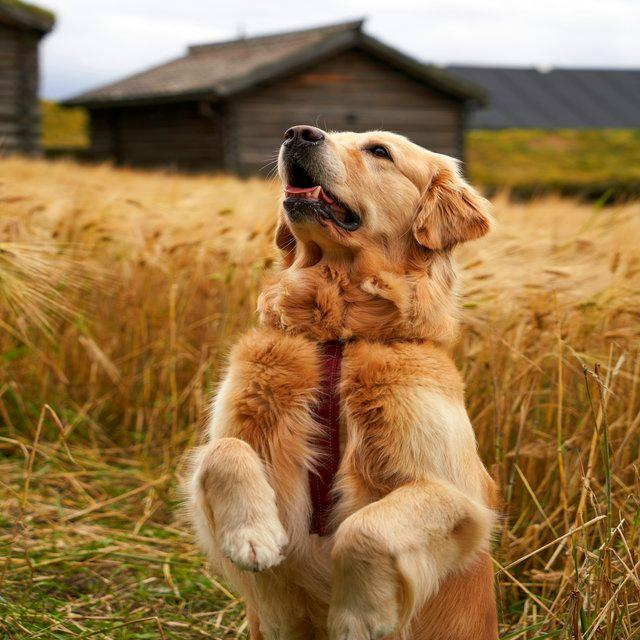retriever: (174, 122, 505, 638)
